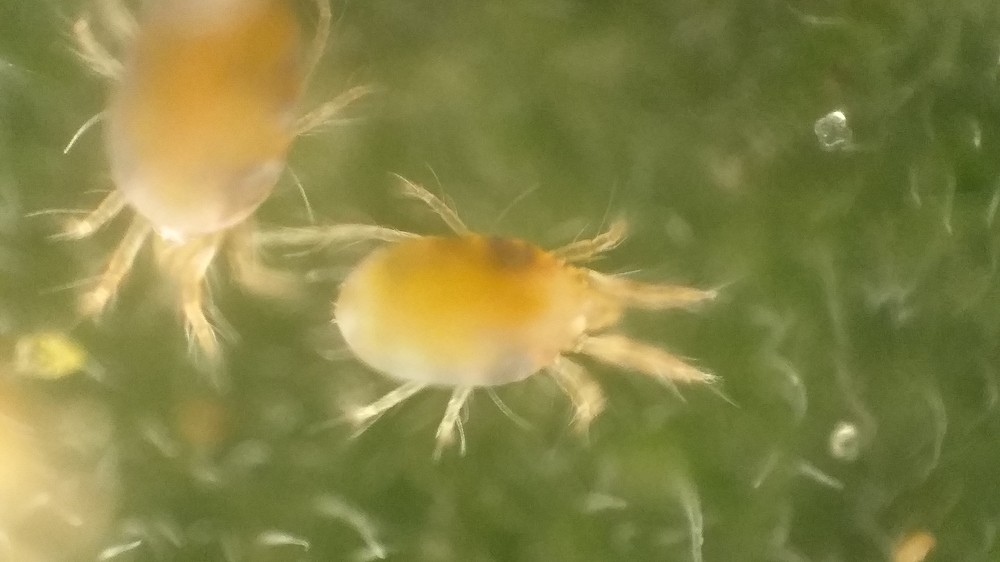Aracnido Rojo: (310, 179, 737, 469), (46, 3, 350, 378)
